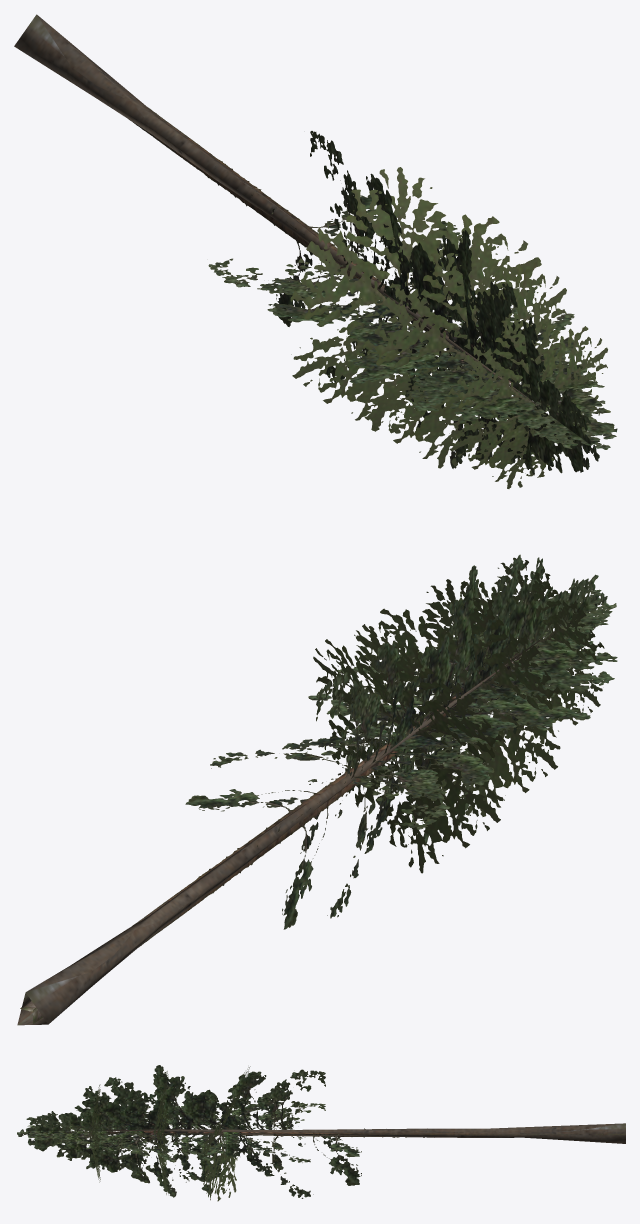
File: tree_background_02.obj
The picture shows the model from 3 angles, top to bottom: view 1: azimuth 30°, elevation 25°; view 2: azimuth 150°, elevation 25°; view 3: azimuth 270°, elevation 25°; orthographic projection. The views are drawn at different scales.
Parts seen in each view (by area): view 1: tree_background_02; view 2: tree_background_02; view 3: tree_background_02.
Part boxes in pixels (box(x1,y1,x2,y2)): tree_background_02: box(14, 14, 617, 488); tree_background_02: box(17, 554, 617, 1025); tree_background_02: box(17, 1065, 625, 1201).
Size of the model in its own units: 6.5 by 6.52 by 26.01.
1 material, 1 textured.
